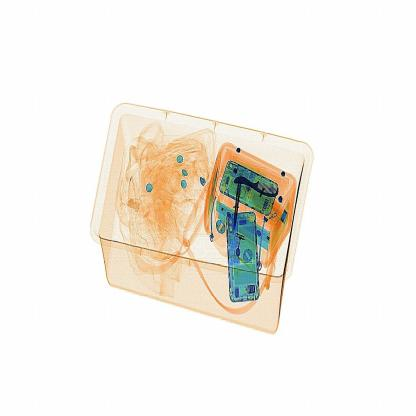gun: (217, 170, 253, 236)
